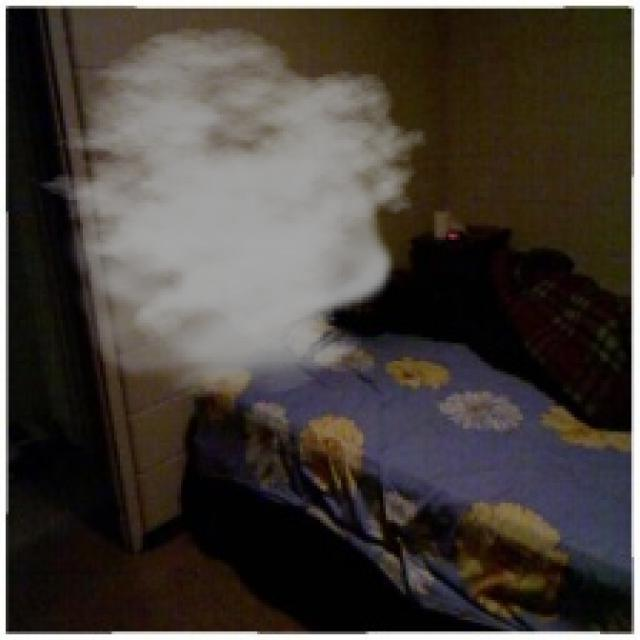Smoke: (20, 26, 429, 397)
